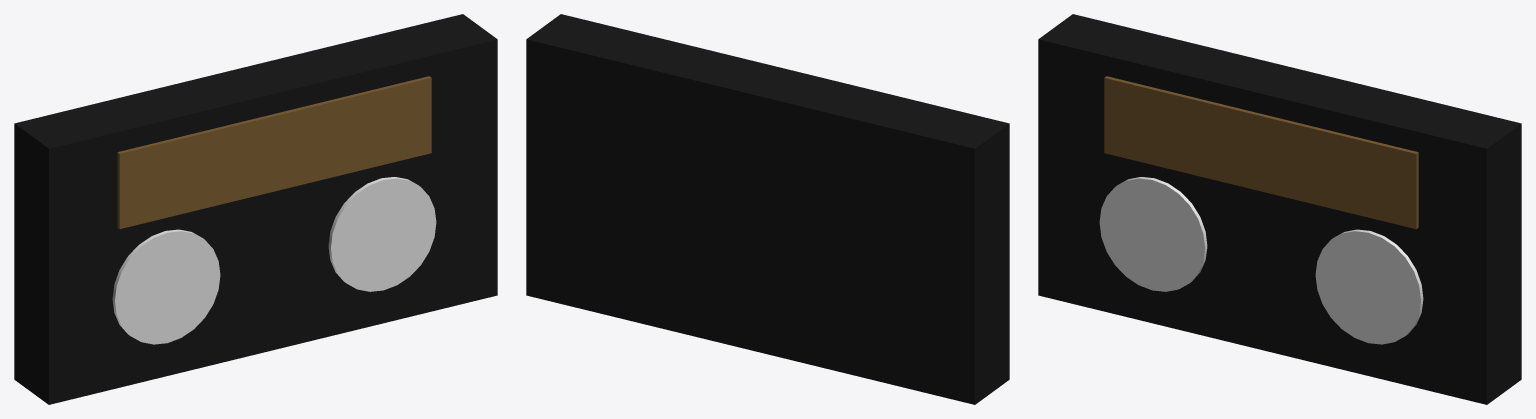
Rendered from vhs-3.glb.
3 renders of one model, left to right at view 1: azimuth 30°, elevation 25°; view 2: azimuth 150°, elevation 25°; view 3: azimuth 330°, elevation 25°, orthographic.
Bounding box in the file's own units: 0.187 × 0.102 × 0.0267.
